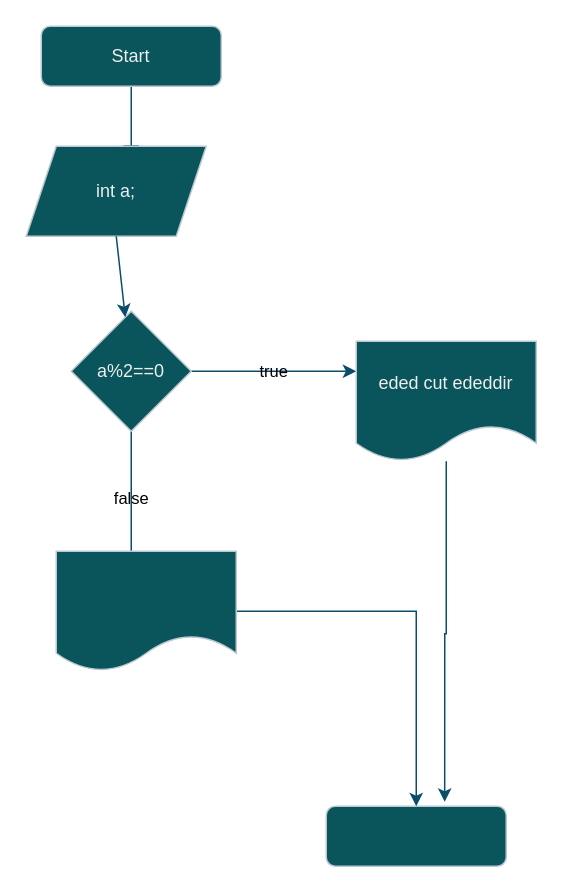
Some shapes in this 563 by 893 pixel diagram are drawn without their labels. The shapes that lost their labels are listed below. From the top down, each one's box as (x1, y1, x2, y2) in pixels, then its label:
(55, 550, 236, 671): tek ededir
(325, 805, 506, 866): end
